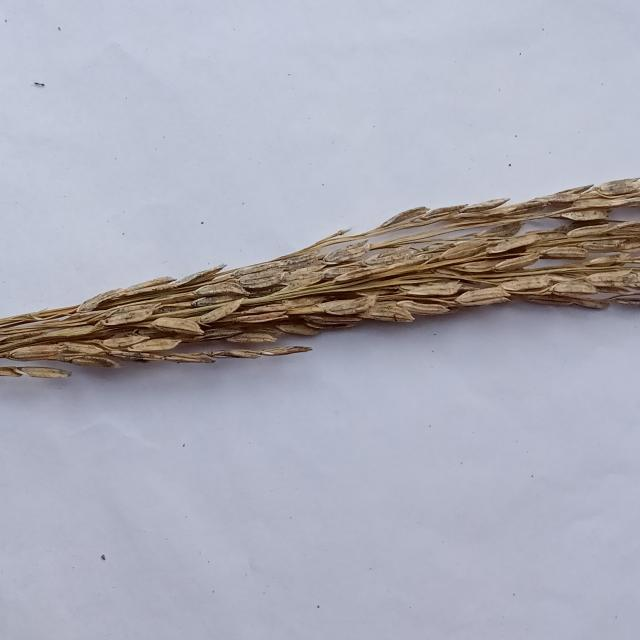Neck_Blast: (0, 157, 640, 384)
